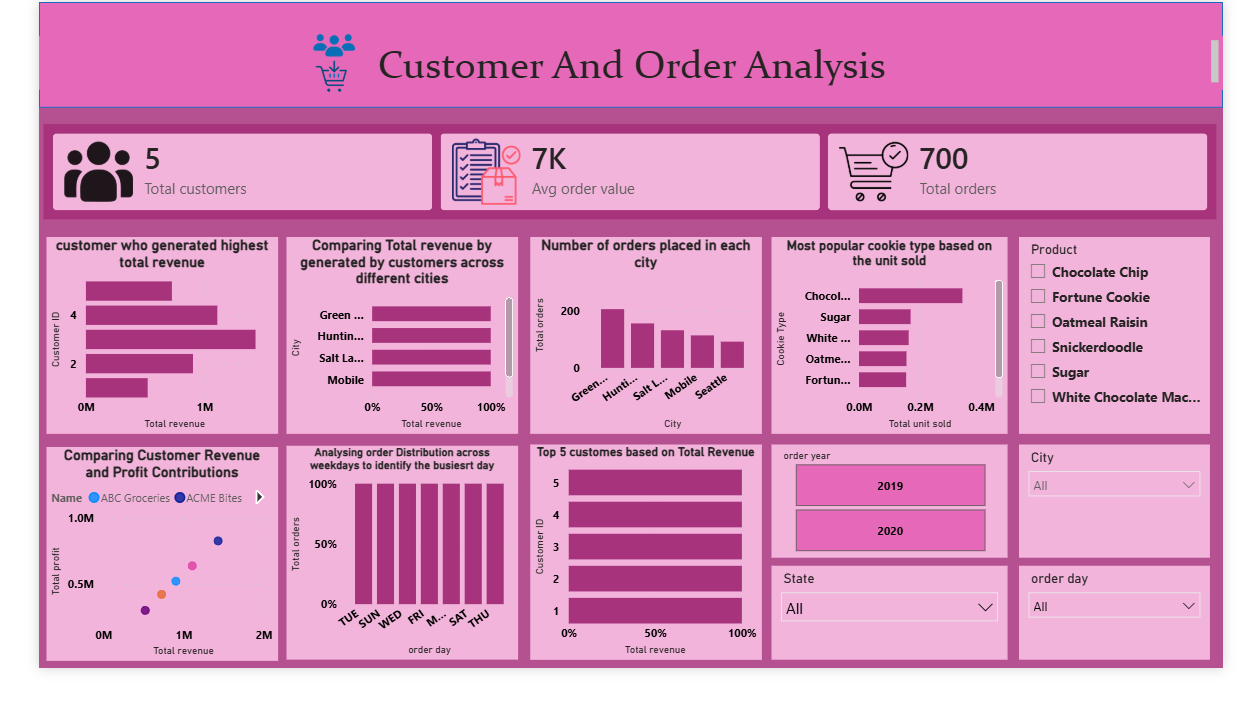

The dashboard page shown, as its layout file describes it:
{"tool":"powerbi","page":{"name":"Customer and order analysis Dashboard","canvas":[1280,720],"ordinal":1},"visuals":[{"type":"shape","box":[0,0,1280,114.3],"z":0},{"type":"textbox","box":[0,37.1,1280,58.6],"z":1000},{"type":"cardVisual","fields":{"Data":["Orders.Total customers","Orders.Avg order value","Orders.Total orders"]},"box":[0,126.7,1280,113.4],"z":2000},{"type":"clusteredBarChart","title":"customer who generated highest total revenue","fields":{"Y":["Orders.Total revenue"],"Category":["Customers.Customer ID"]},"box":[8.8,253.8,250,212.5],"z":3000},{"type":"hundredPercentStackedBarChart","title":" Comparing Total revenue by generated by customers  across different cities","fields":{"Y":["Orders.Total revenue"],"Category":["Customers.City"]},"box":[267.5,253.8,250,212.5],"z":4000},{"type":"clusteredColumnChart","title":"Number of orders placed in each city","fields":{"Y":["Orders.Total orders"],"Category":["Customers.City"]},"box":[531.2,253.8,250,212.5],"z":5000},{"type":"clusteredBarChart","title":"Most popular cookie type based on the unit sold","fields":{"Category":["Cookie Types.Cookie Type"],"Y":["Orders.Total unit sold"]},"box":[792.5,253.8,255,212.5],"z":6000},{"type":"scatterChart","title":" Comparing Customer Revenue and Profit Contributions","fields":{"X":["Orders.Total revenue"],"Y":["Orders.Total profit"],"Series":["Customers.Name"]},"box":[8.8,481.2,250,231.2],"z":7000},{"type":"hundredPercentStackedColumnChart","title":"Analysing order Distribution  across weekdays  to identify the busiesrt day ","fields":{"Category":["Orders.order day"],"Y":["Orders.Total orders"]},"box":[267.5,480,250,231.2],"z":8000},{"type":"hundredPercentStackedBarChart","title":"Top 5 customes based on  Total Revenue","fields":{"Y":["Orders.Total revenue"],"Category":["Customers.Customer ID"]},"box":[531.2,478.8,250,232.5],"z":9000},{"type":"slicer","fields":{"Values":["Orders.order year"]},"box":[792.5,478.8,255,122.5],"z":10000},{"type":"slicer","fields":{"Values":["Orders.Product"]},"box":[1060,253.8,206.2,212.5],"z":11000},{"type":"slicer","fields":{"Values":["Customers.City"]},"box":[1060,478.8,206.2,122.5],"z":12000},{"type":"slicer","fields":{"Values":["Customers.State"]},"box":[792.5,610,255,101.2],"z":13000},{"type":"slicer","fields":{"Values":["Orders.order day"]},"box":[1060,610,206.2,101.2],"z":14000},{"type":"image","box":[190.6,31.4,258.2,70],"z":15000}]}

Visuals, with their boxes in screenshot pixels (x1, y1, x2, y2), scaled from the page's 1280x720 canvas onto the 1257x727 screenshot:
shape: (left=0, top=0, right=1256, bottom=115)
textbox: (left=0, top=37, right=1256, bottom=97)
cardVisual - Orders.Total customers x Orders.Avg order value: (left=0, top=128, right=1256, bottom=242)
"customer who generated highest total revenue" clusteredBarChart: (left=9, top=256, right=254, bottom=471)
" Comparing Total revenue by generated by customers  across different cities" hundredPercentStackedBarChart: (left=263, top=256, right=508, bottom=471)
"Number of orders placed in each city" clusteredColumnChart: (left=522, top=256, right=767, bottom=471)
"Most popular cookie type based on the unit sold" clusteredBarChart: (left=778, top=256, right=1029, bottom=471)
" Comparing Customer Revenue and Profit Contributions" scatterChart: (left=9, top=486, right=254, bottom=719)
"Analysing order Distribution  across weekdays  to identify the busiesrt day " hundredPercentStackedColumnChart: (left=263, top=485, right=508, bottom=718)
"Top 5 customes based on  Total Revenue" hundredPercentStackedBarChart: (left=522, top=483, right=767, bottom=718)
slicer - Orders.order year: (left=778, top=483, right=1029, bottom=607)
slicer - Orders.Product: (left=1041, top=256, right=1243, bottom=471)
slicer - Customers.City: (left=1041, top=483, right=1243, bottom=607)
slicer - Customers.State: (left=778, top=616, right=1029, bottom=718)
slicer - Orders.order day: (left=1041, top=616, right=1243, bottom=718)
image: (left=187, top=32, right=441, bottom=102)
